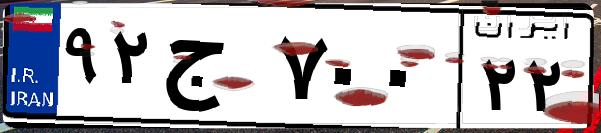0: (385, 28, 445, 110), (330, 28, 385, 110)
2: (475, 38, 525, 113), (525, 38, 570, 115), (110, 28, 158, 98)
7: (270, 28, 330, 110)
9: (57, 26, 110, 100)
ج: (158, 20, 270, 120)
